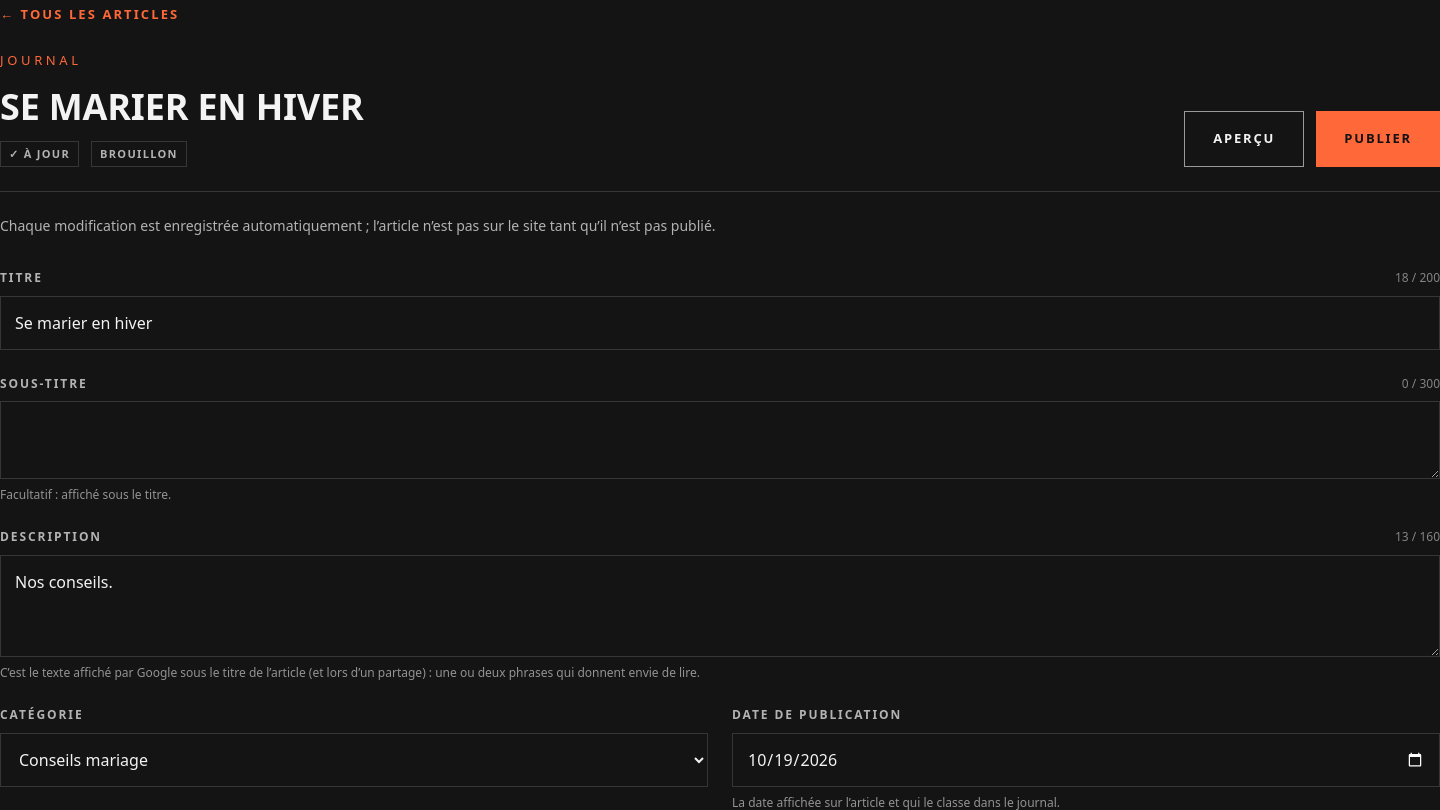
Test: EditeurArticle — publication, retrait, suppression › Publier un article complet : confirmation (adresse figée), enregistrement d’abord, puis publication
Type "Pour un jour d’hiver" into the text box labelled "Sous-titre" at (720, 440), box [0,401,1439,479]
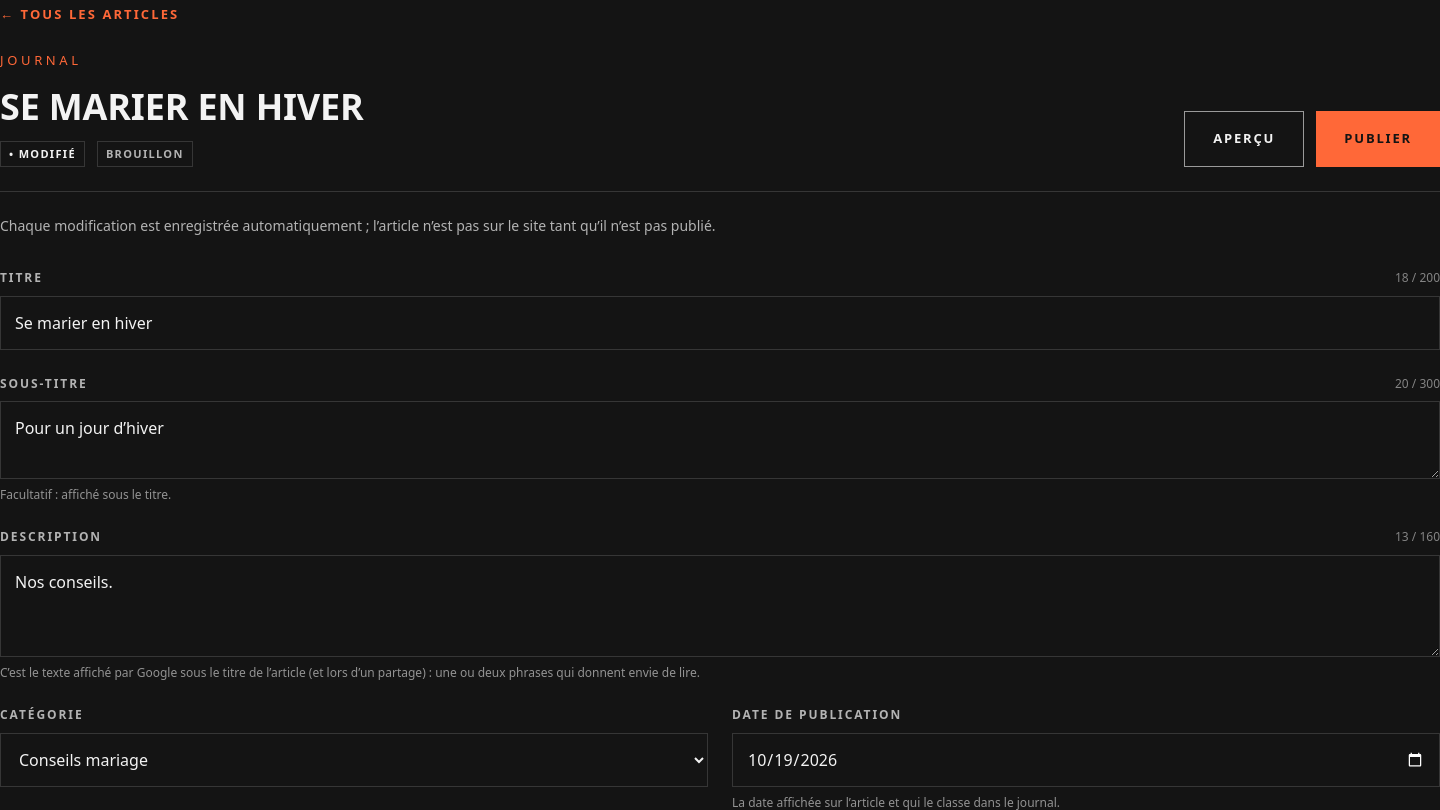
Click the button "Publier" at (1378, 139), box [1316,111,1439,167]
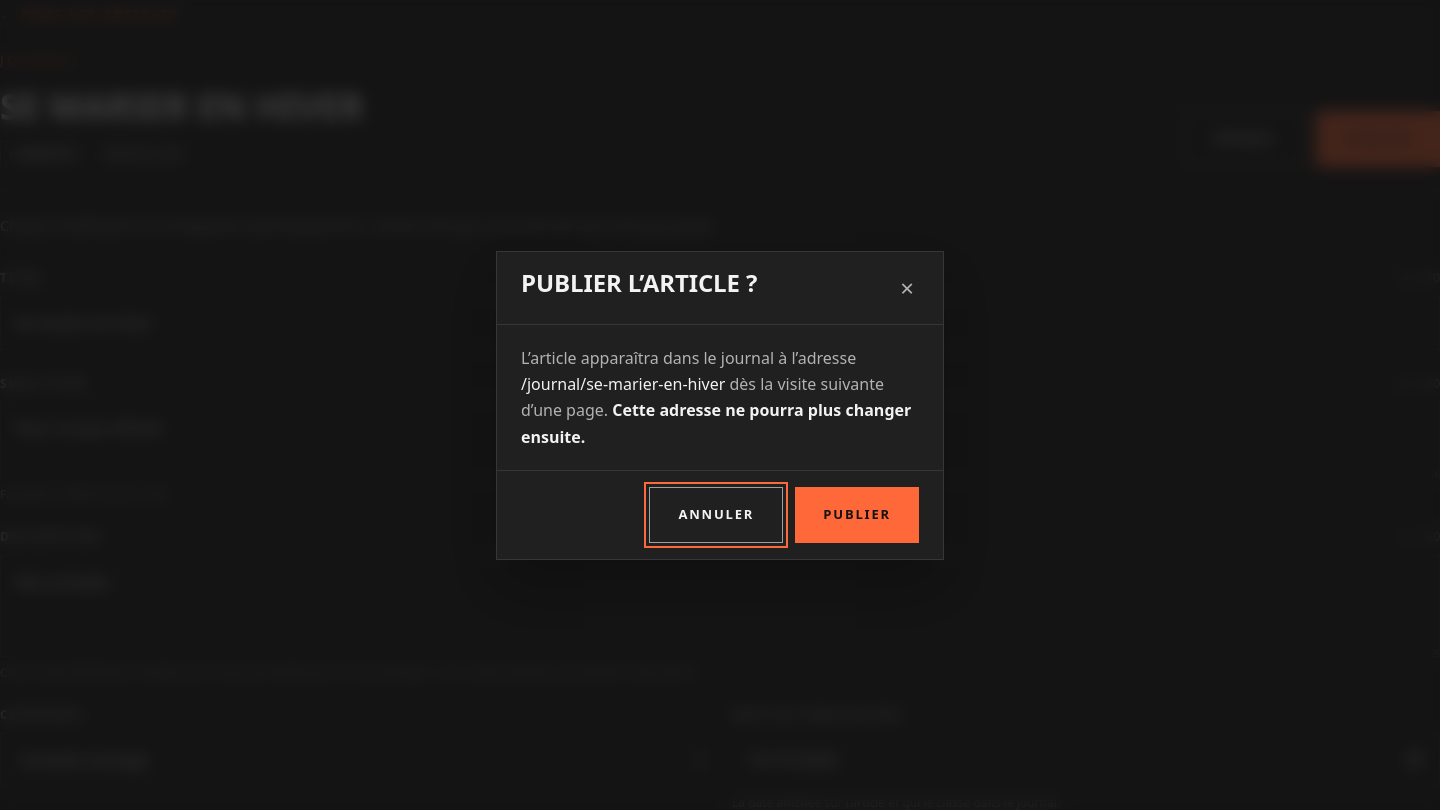
Result: the dialog "Publier l’article ?" shows "/journal/se-marier-en-hiver" at [521,373,725,395]
Result: the dialog "Publier l’article ?" shows "Cette adresse ne pourra plus changer ensuite." at [521,399,911,448]
Click the button "Publier" at (857, 515), box [795,487,919,542]
(page scrolled)
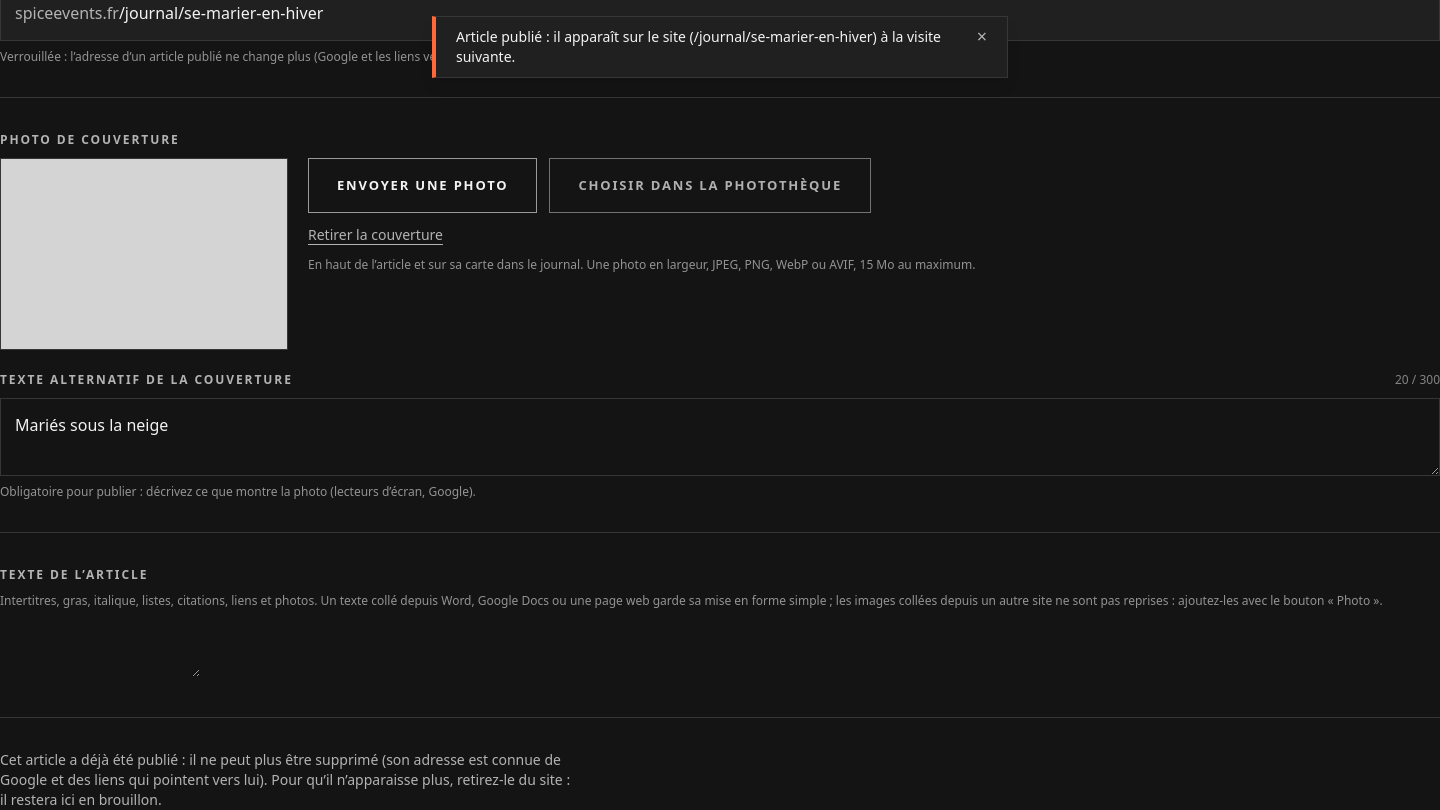
Result: the text "ne peut plus être supprimé" is shown at [0,750,561,789]
